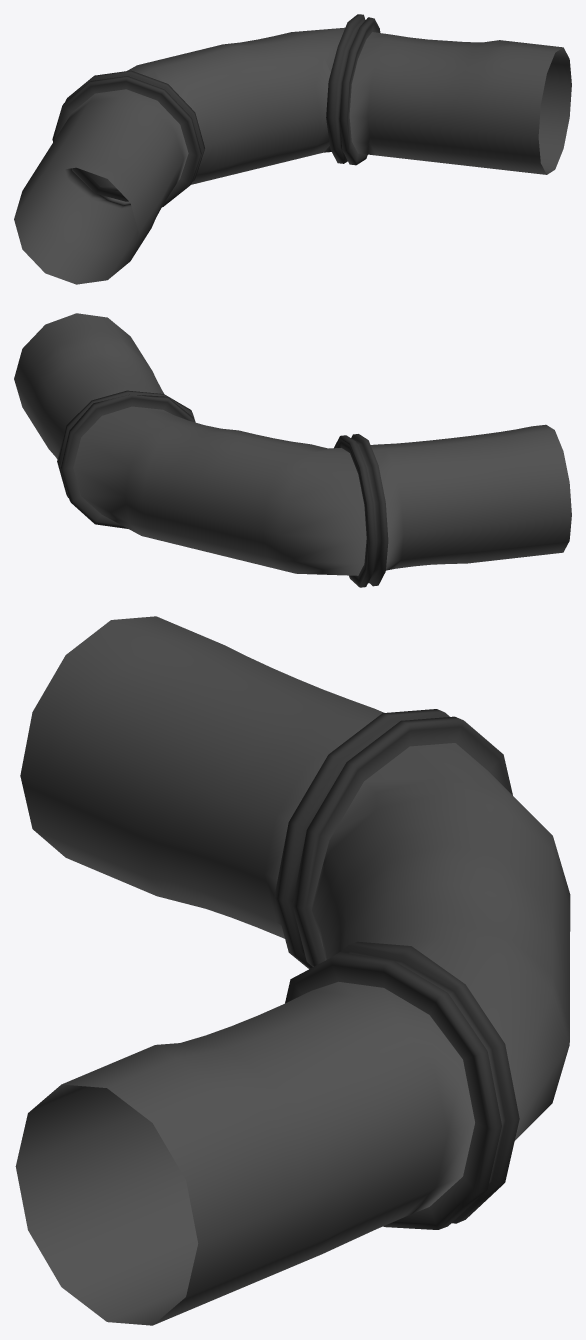
File: Heaterpipe_curve.fbx
3 views of the same model, one above another, from view 1: azimuth 30°, elevation 25°; view 2: azimuth 150°, elevation 25°; view 3: azimuth 270°, elevation 25° (orthographic). The views are drawn at different scales.
Parts seen in each view (by area): view 1: heater_pipe.90g.001; view 2: heater_pipe.90g.001; view 3: heater_pipe.90g.001.
Part boxes in pixels (x1=…): heater_pipe.90g.001: x1=14, y1=14, x2=571, y2=284; heater_pipe.90g.001: x1=14, y1=313, x2=571, y2=587; heater_pipe.90g.001: x1=15, y1=616, x2=570, y2=1325.
Bounding box in the file's own units: 199 × 47.74 × 85.93.
1 material, 1 textured.
